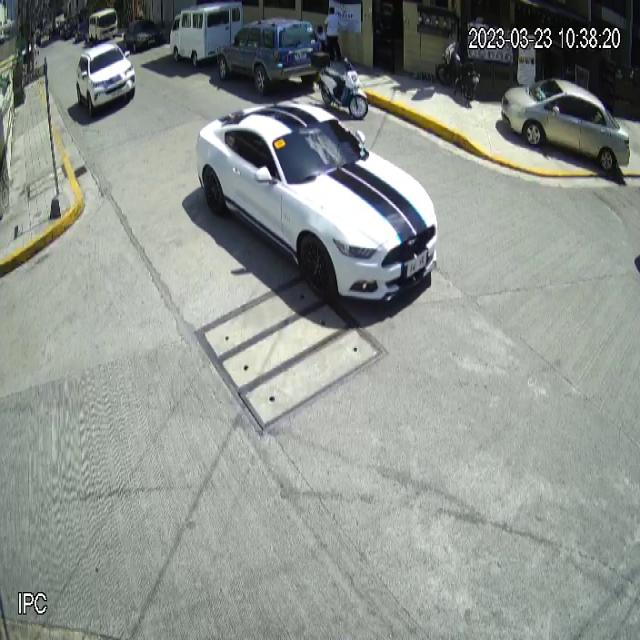Car: (196, 96, 439, 306), (500, 76, 632, 175), (216, 17, 322, 98), (73, 41, 137, 118)
Motorcycle: (311, 49, 371, 125)
Van: (169, 2, 244, 68)
